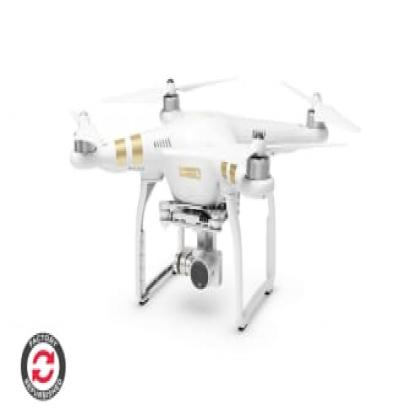drone: (62, 63, 358, 232)
